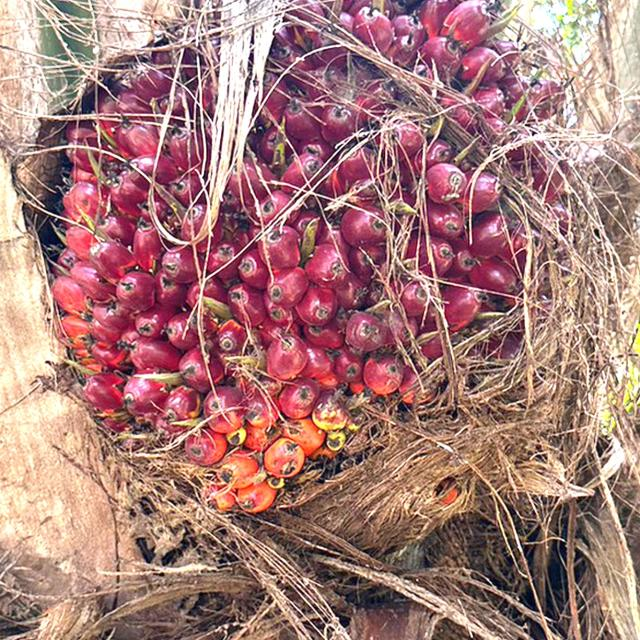ripe: (17, 0, 594, 540)
